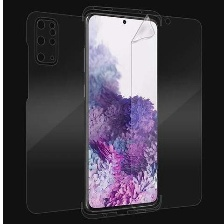phone: (80, 10, 163, 216)
